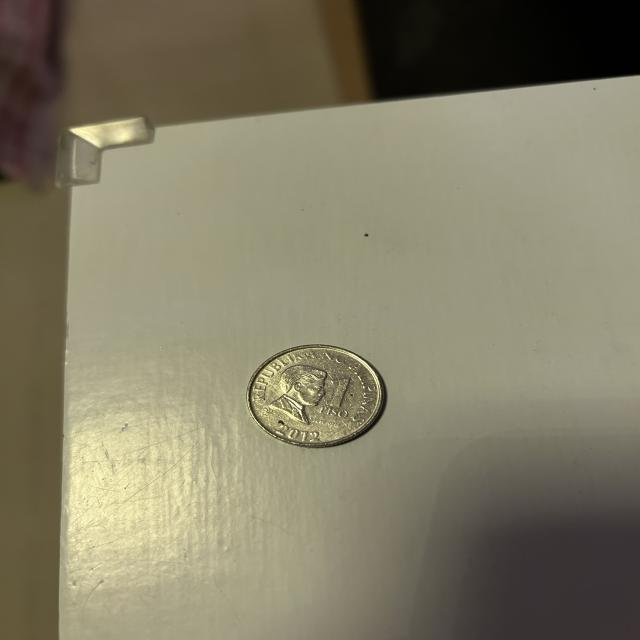1_Old_Front: (319, 372, 355, 426)
